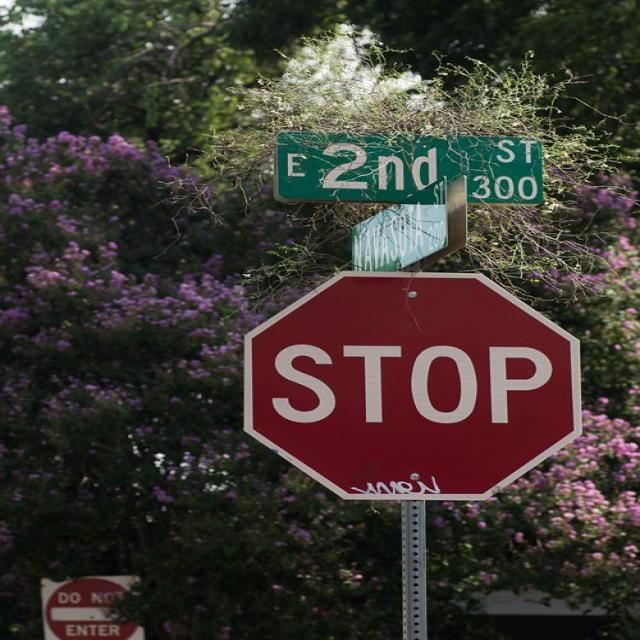stop: (241, 269, 582, 502)
